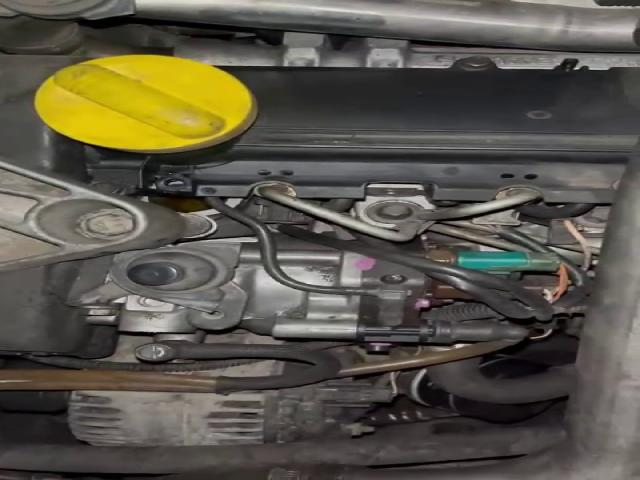alternator: (68, 391, 266, 446)
high_pressure_pump: (117, 236, 515, 344)
